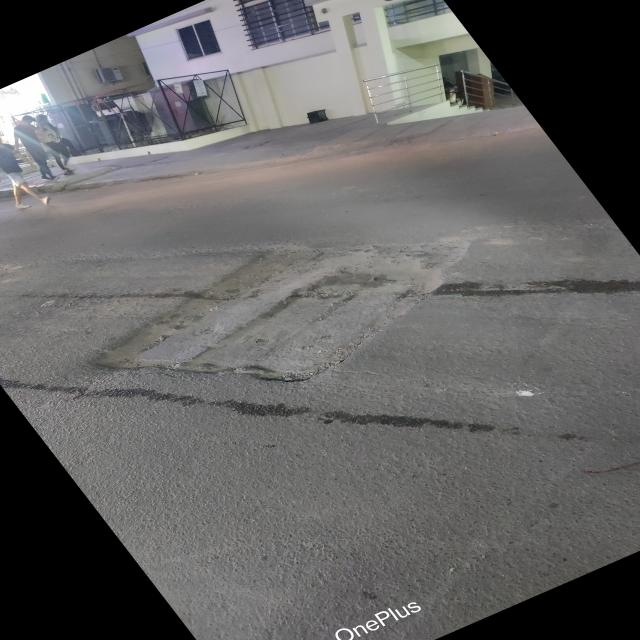potholes: (72, 229, 464, 386)
